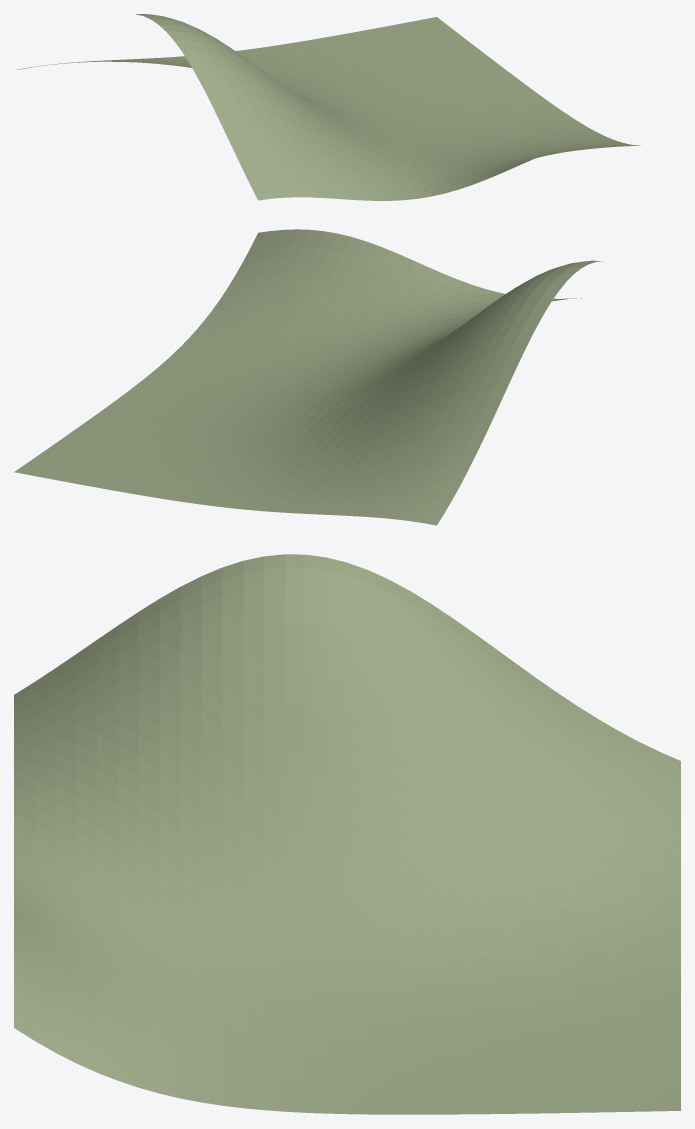
Rendered from canyon-4-2.glb.
The picture shows the model from 3 angles, top to bottom: view 1: azimuth 30°, elevation 25°; view 2: azimuth 150°, elevation 25°; view 3: azimuth 270°, elevation 25°; orthographic projection. The views are drawn at different scales.
Visible parts, largest first — view 1: canyon-4-2; view 2: canyon-4-2; view 3: canyon-4-2.
Part boxes in pixels (<box>): canyon-4-2: <box>17,14,640,200</box>; canyon-4-2: <box>14,229,602,525</box>; canyon-4-2: <box>14,554,680,1114</box>.
Bounding box in the file's own units: 128 × 58.99 × 128.
